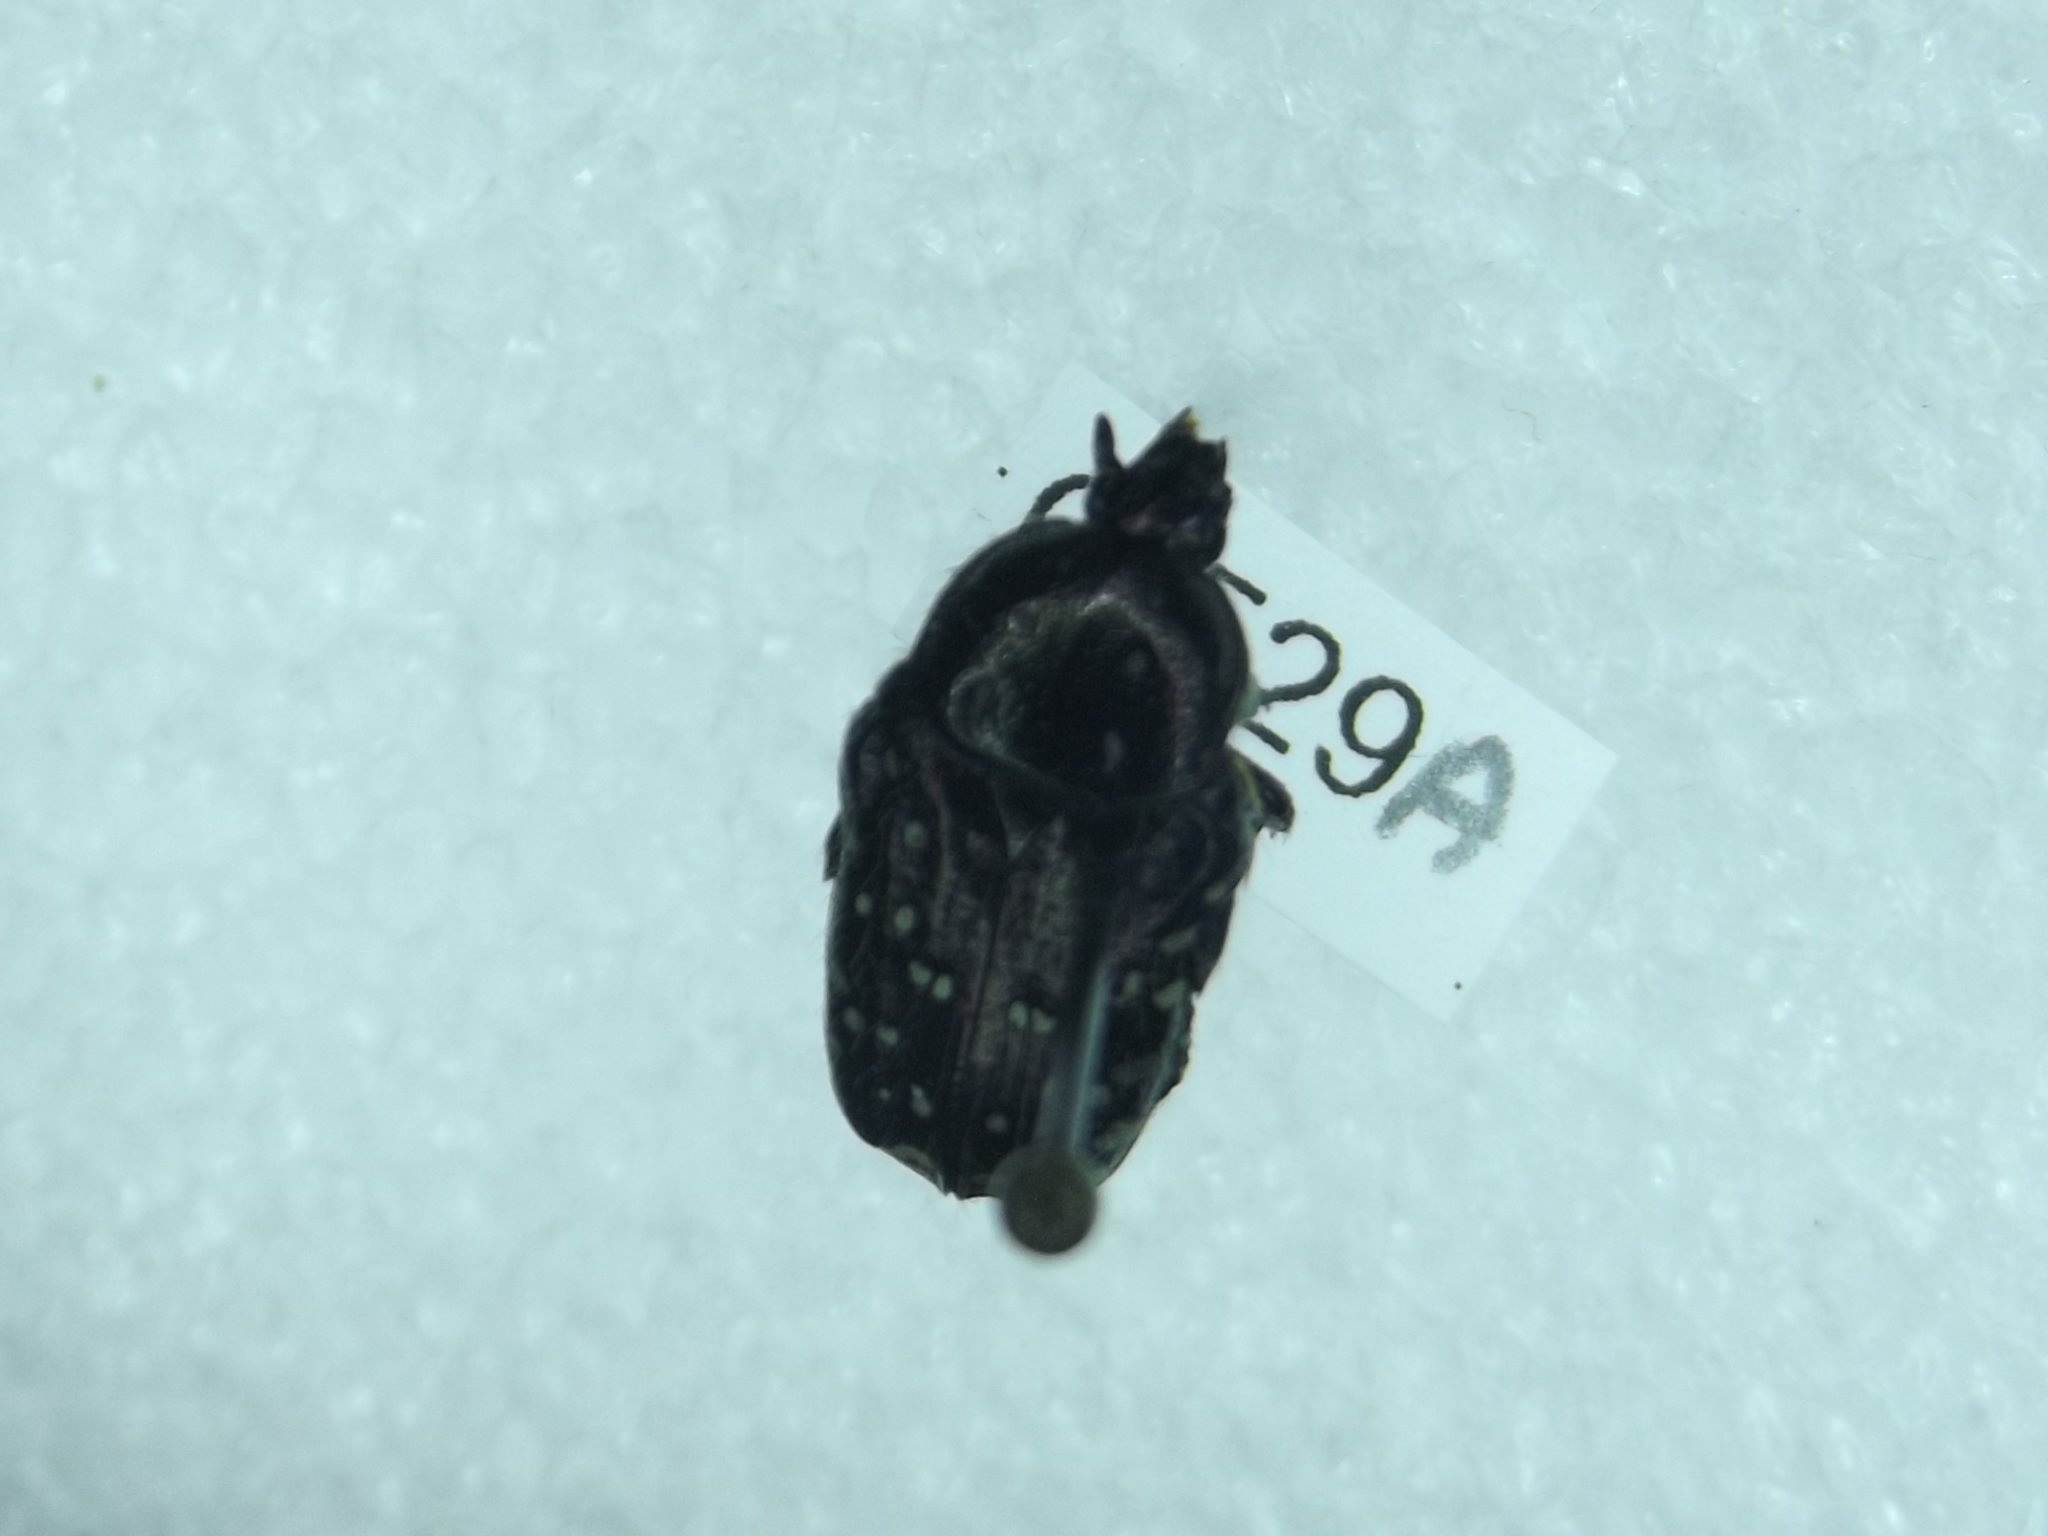Oxythyrea_funesta: (803, 384, 1272, 1249)
